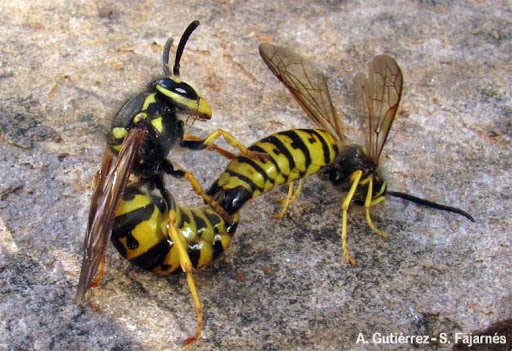chax: (67, 12, 242, 342), (212, 35, 451, 237)
